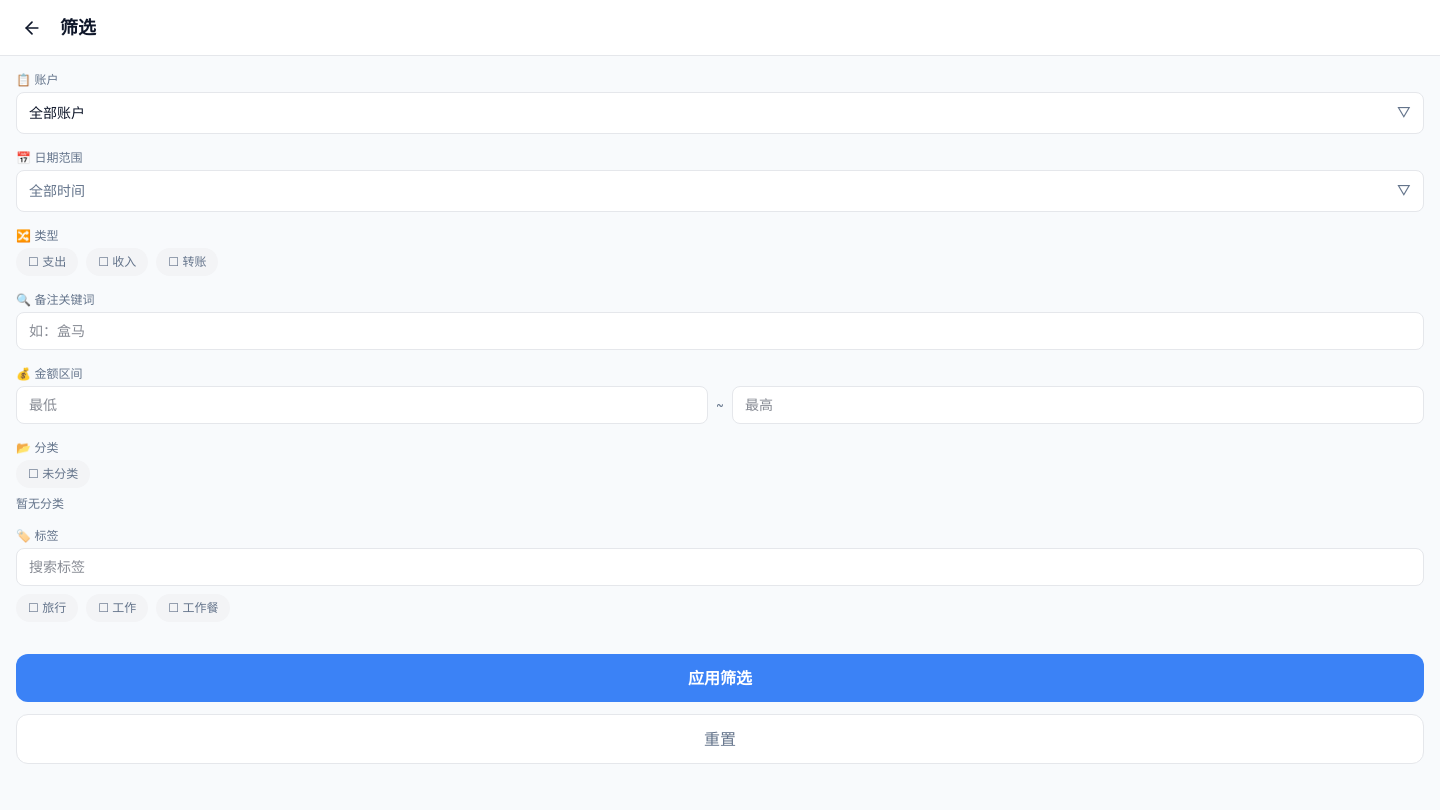
Test: FilterPage 标签搜索 › 无命中时提示未找到标签
In the field with test id "tag-search": [720, 567] box [16,548,1424,586], type "不存在的标签"
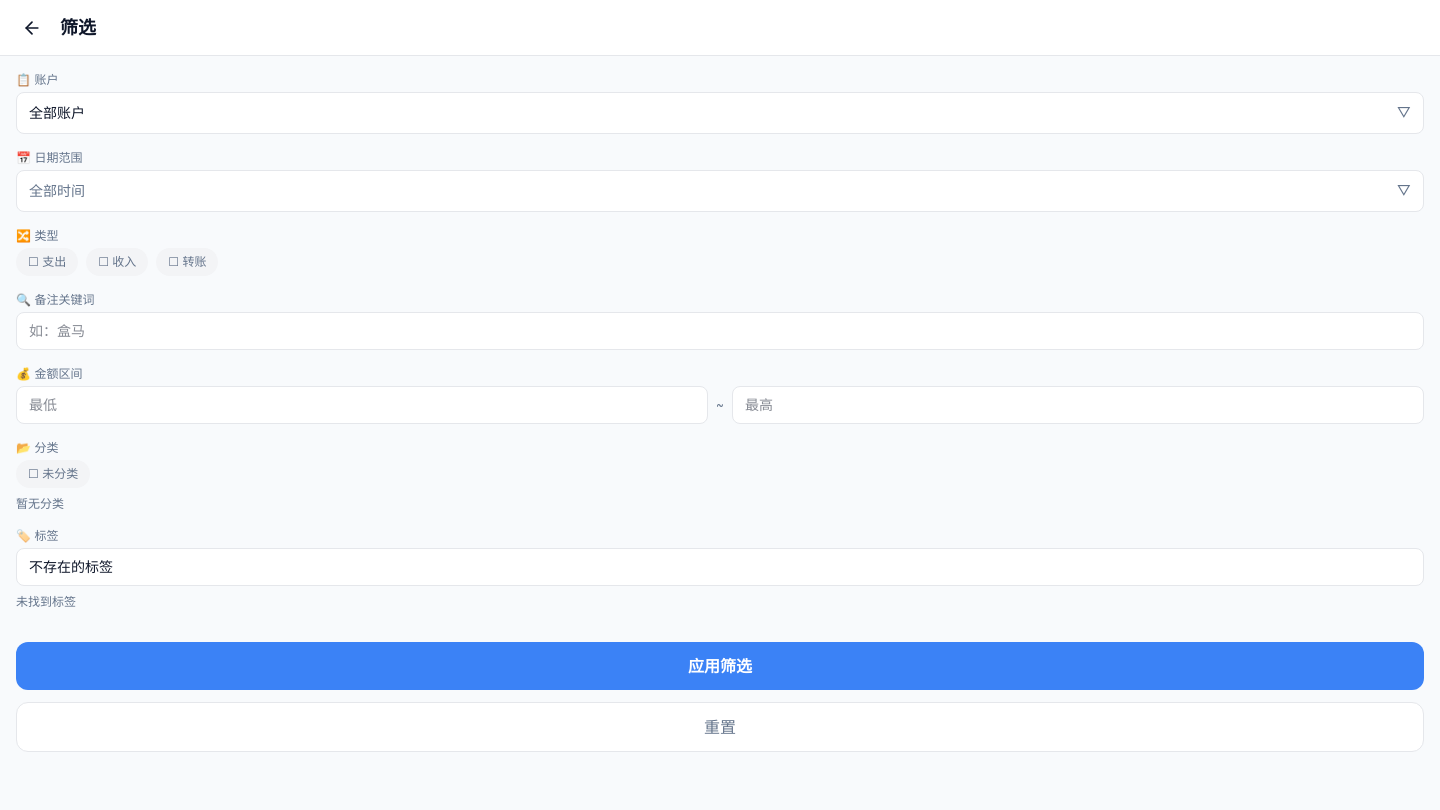
Now the text "未找到标签" is shown, box [16,594,76,610]
